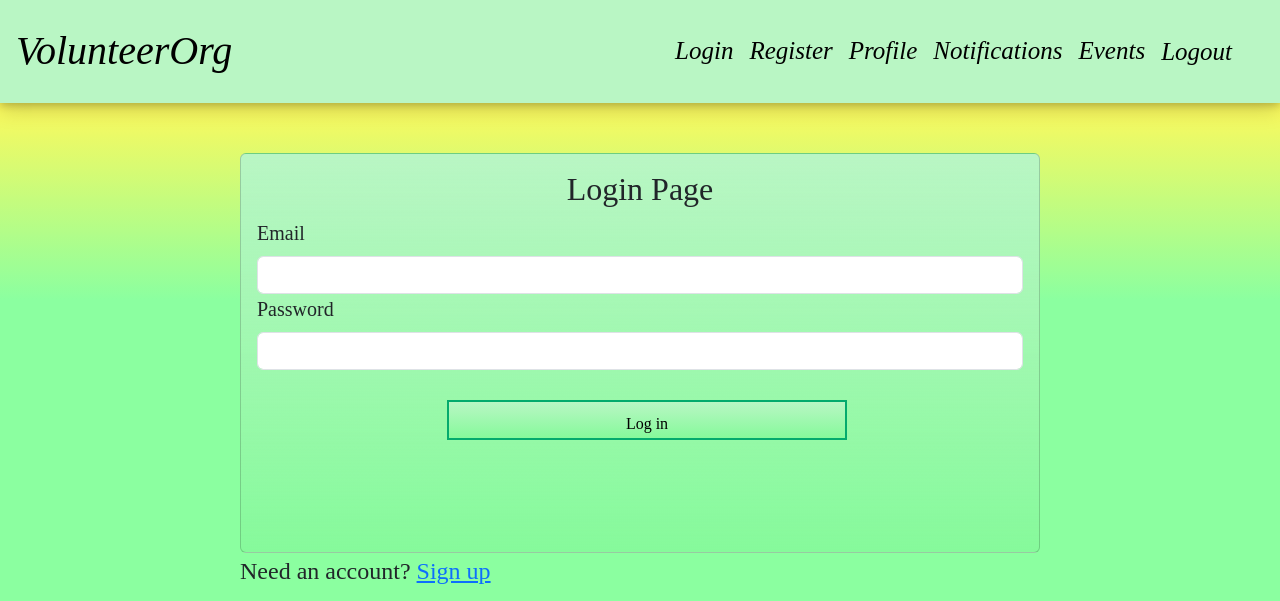
Scenario: Login Page Tests › displays error message on failed login
Type "wrong@example.com" into the field labelled "Email". click: (640, 275)
box: left=257, top=256, right=1023, bottom=294
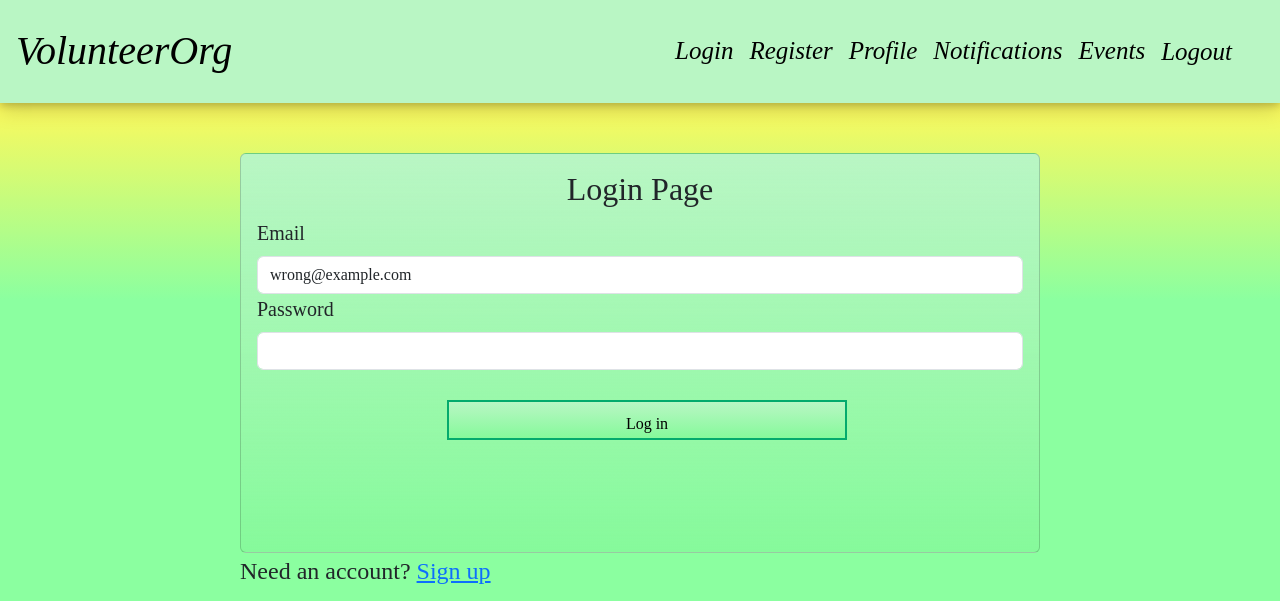
Type "wrongpassword" into the password field labelled "Password". click: (640, 351)
box: left=257, top=332, right=1023, bottom=370
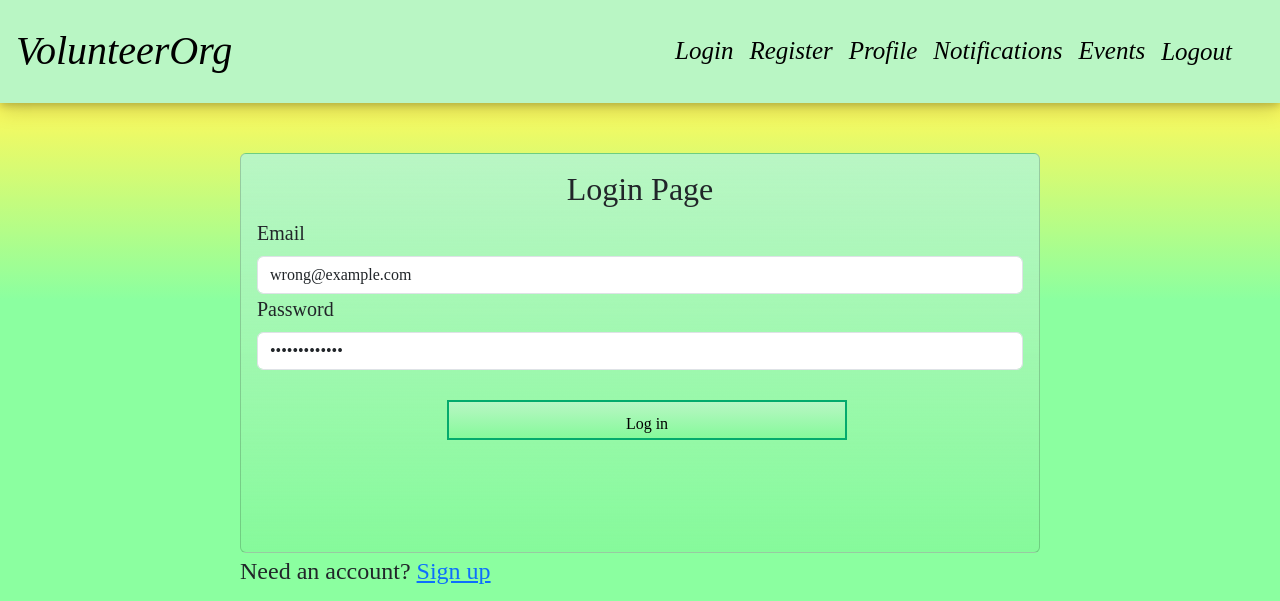
Click the button "Log in". click: (647, 420)
box: left=447, top=400, right=847, bottom=440
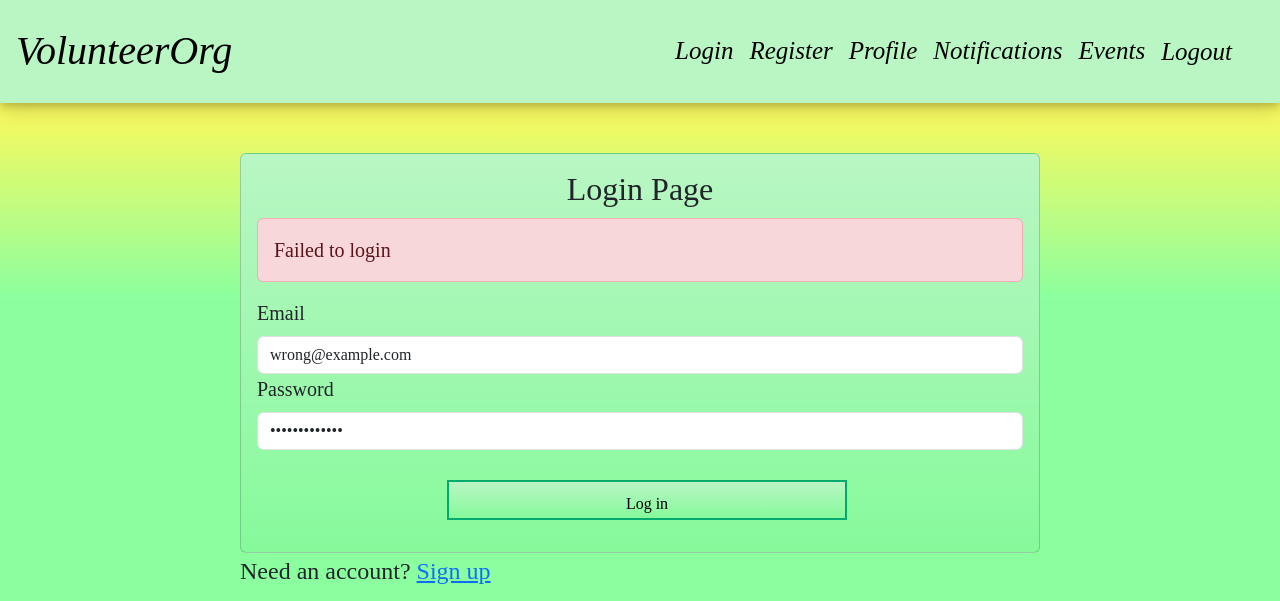
Expected: the text "Failed to login" is shown, left=257, top=218, right=1023, bottom=282
